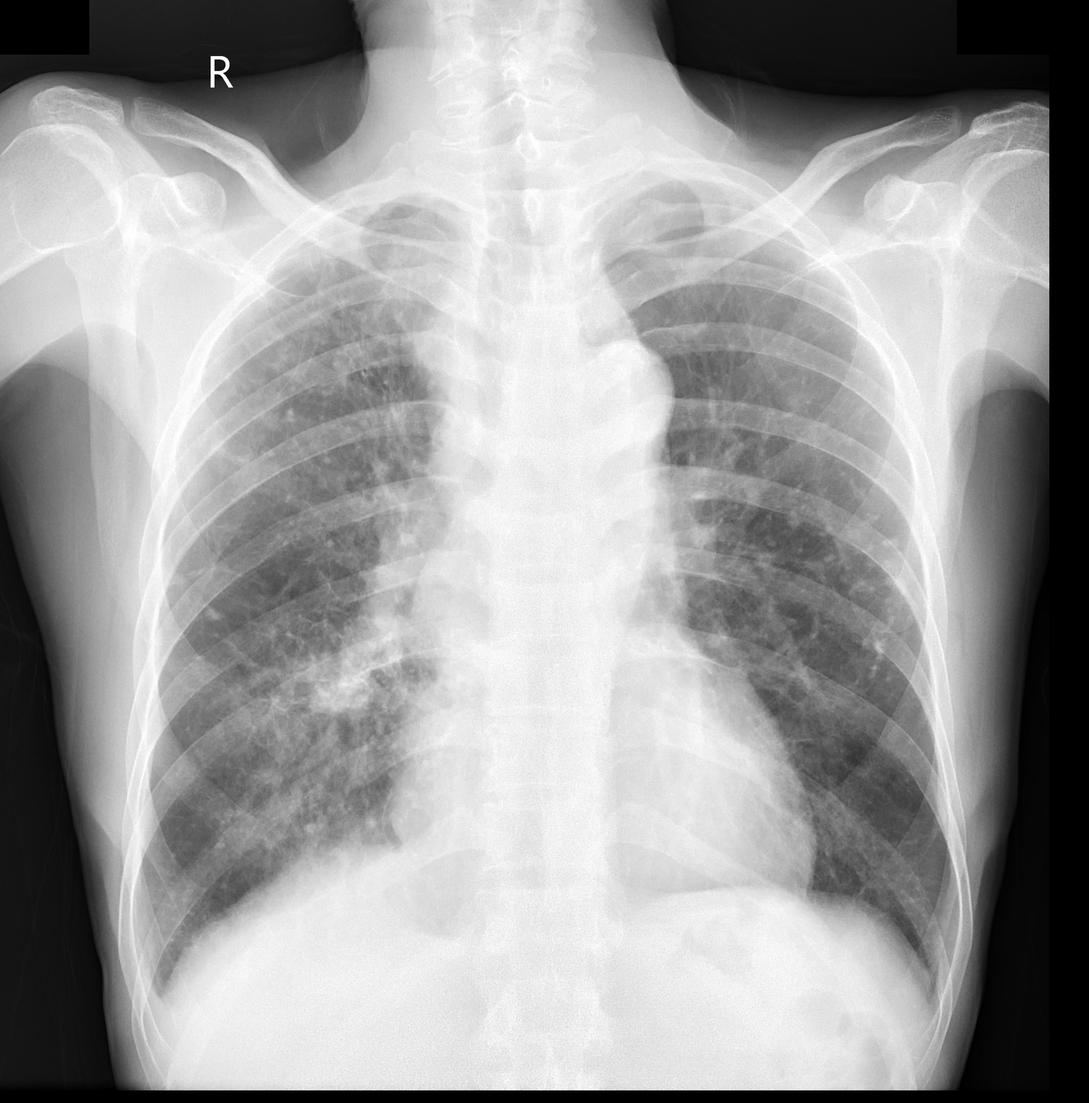Aortic enlargement: (565, 335, 678, 451)
Cardiomegaly: (384, 699, 816, 928)
Pulmonary fibrosis: (206, 235, 430, 482), (784, 482, 907, 660), (169, 561, 271, 620)
